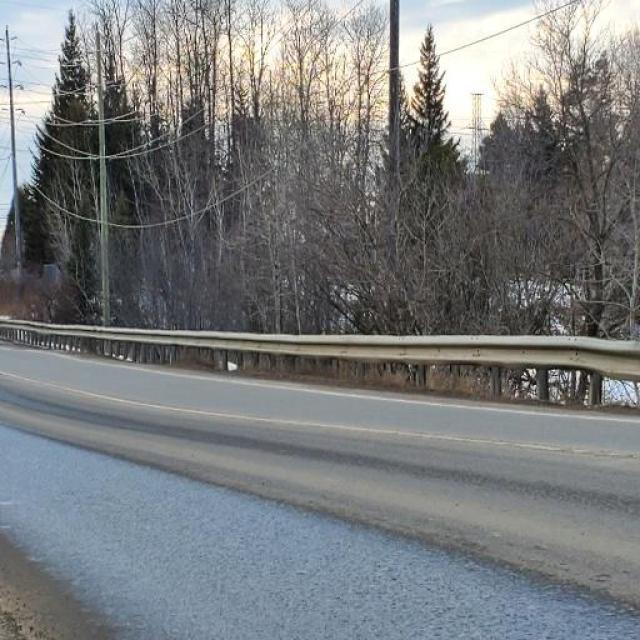Guard rail: (0, 316, 640, 407)
